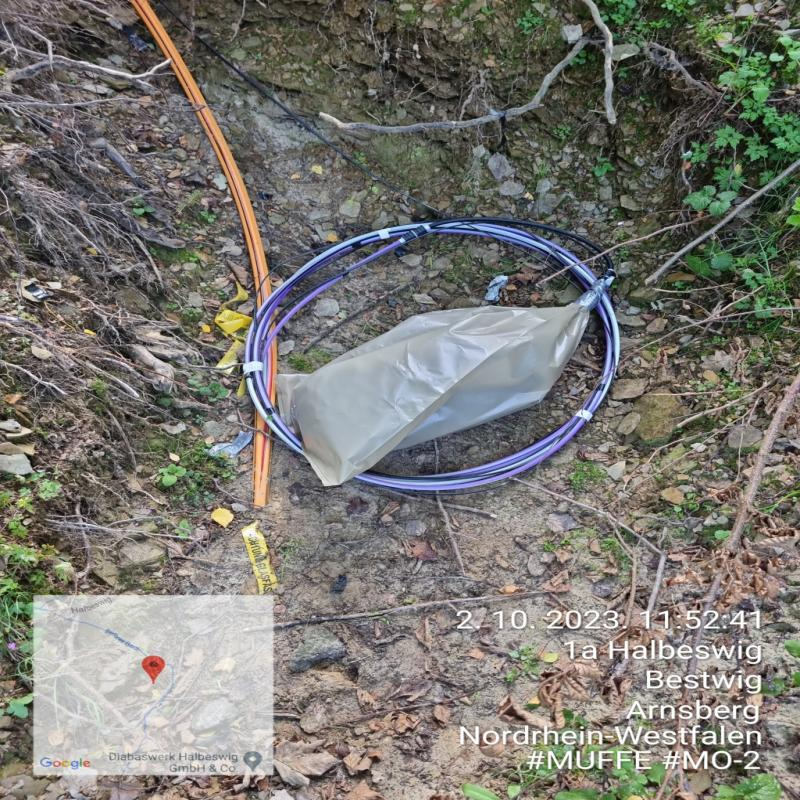NT-Muffen: (260, 279, 617, 485)
